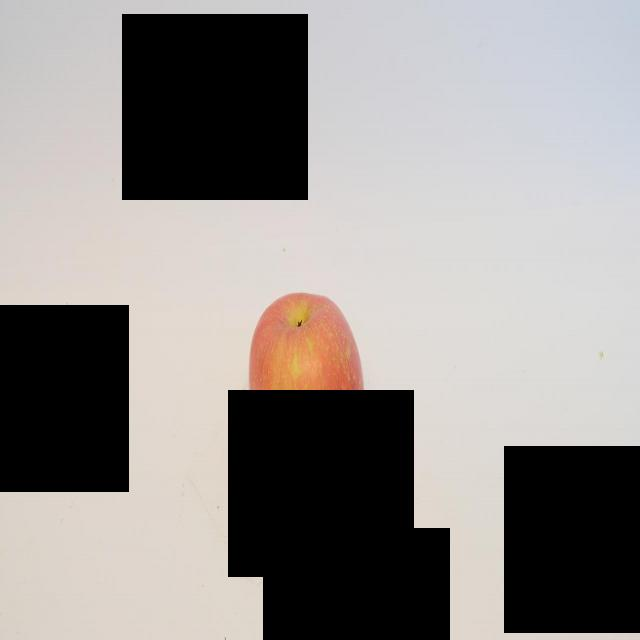apple: (248, 289, 364, 495)
